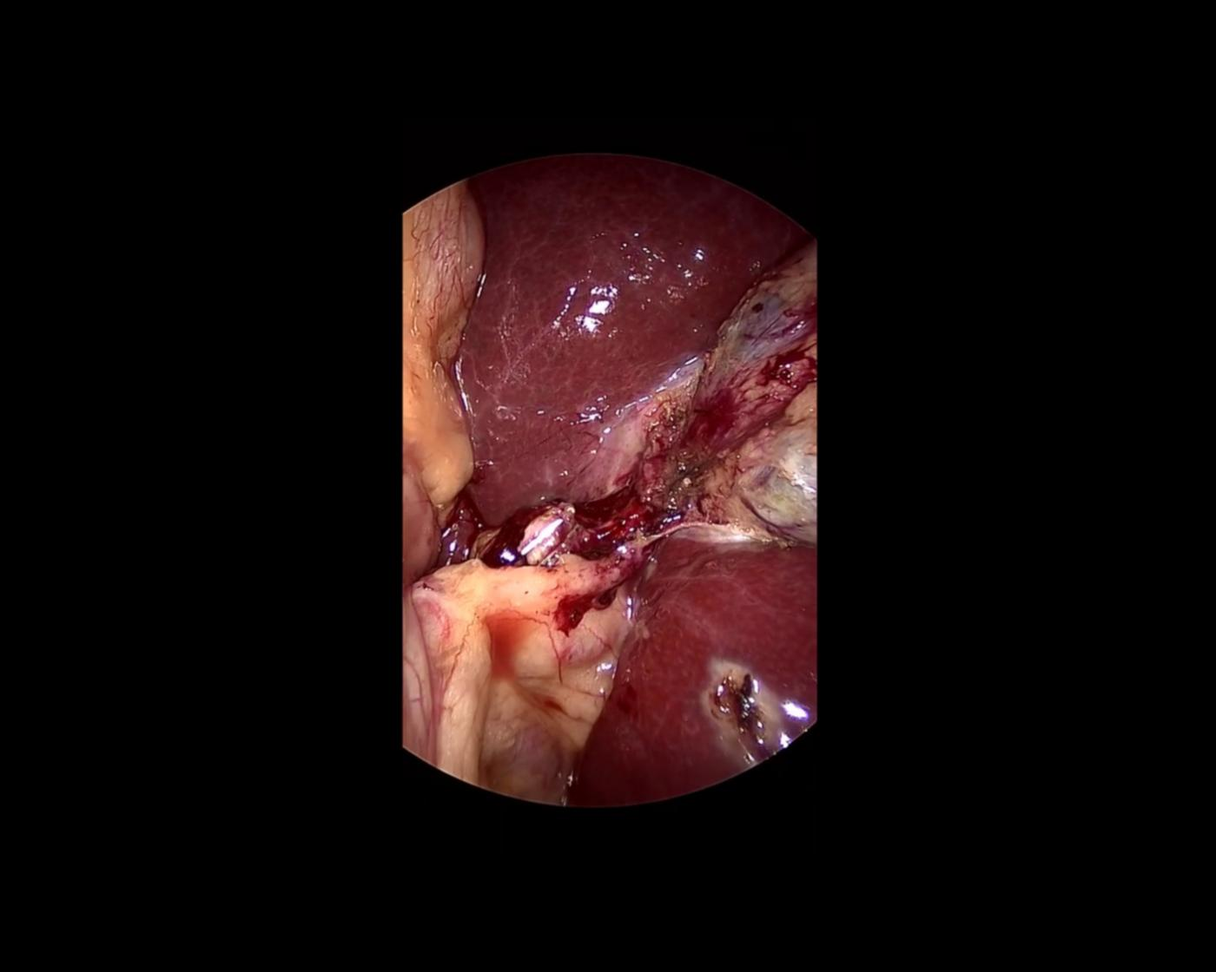Gallbladder: (684, 243, 814, 549)
Liver: (304, 43, 815, 568), (565, 538, 816, 807)
